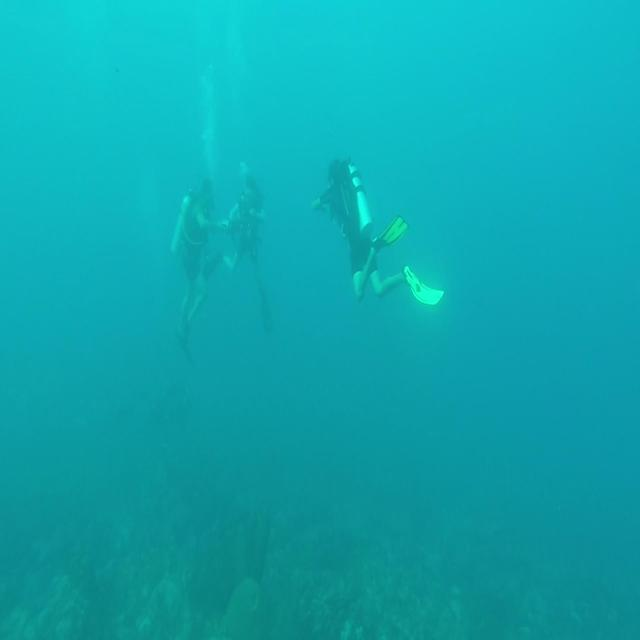human: (311, 154, 444, 306), (170, 174, 230, 359), (221, 161, 272, 331)
